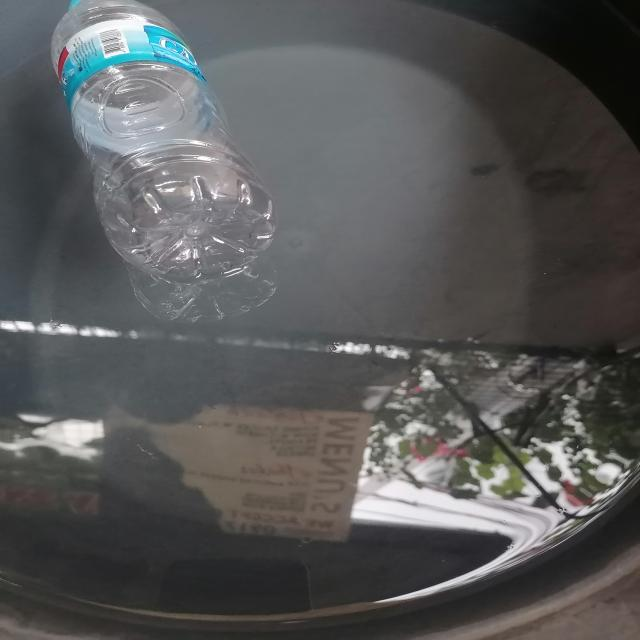Plastic Bottle: (51, 0, 276, 284)
